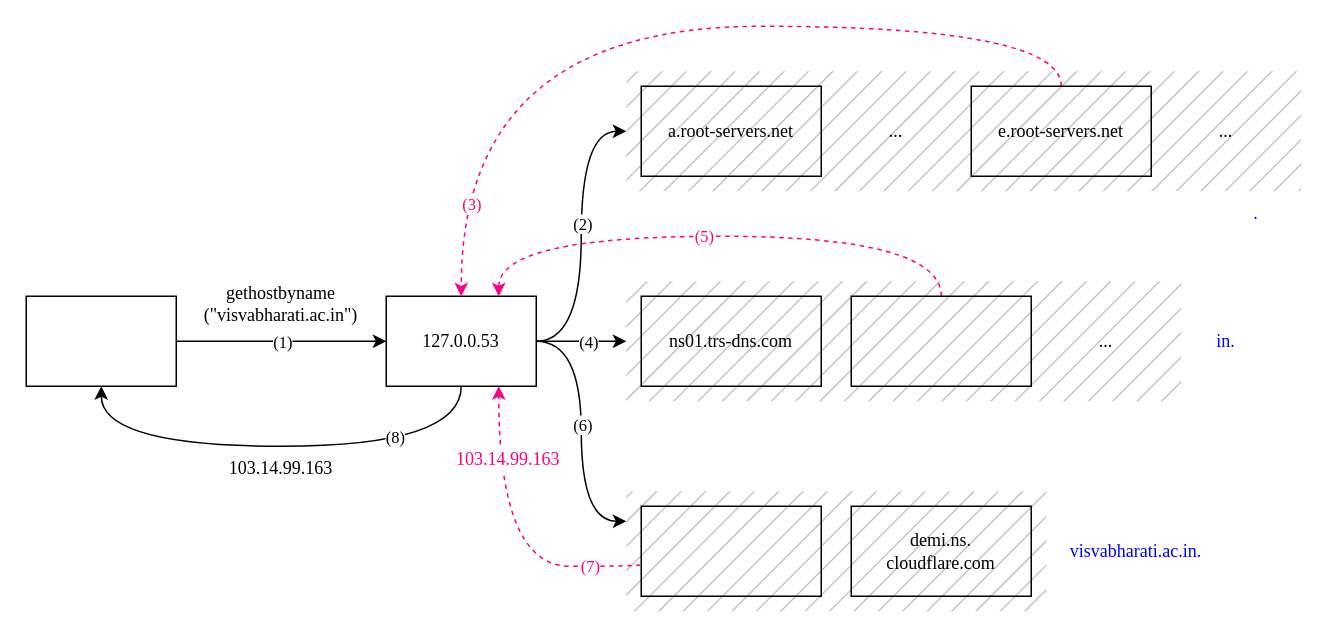
Some shapes in this 1328 by 638 pixel diagram are drawn without their labels. The centre of each missing label's shape, as x and y in pixels:
"Application" goes at (100,340).
"ns01.trs-dns.net" goes at (940,340).
"toby.ns. cloudflare.com" goes at (730,550).
